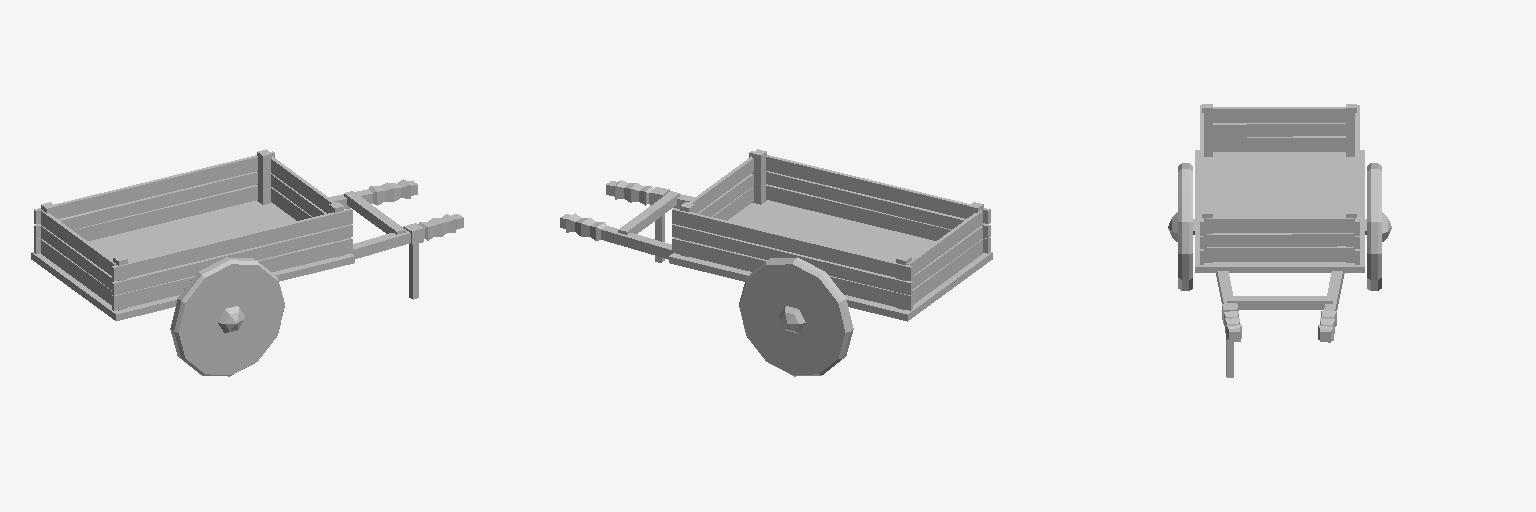
File: cart_001.obj
3 renders of one model, left to right at view 1: azimuth 30°, elevation 25°; view 2: azimuth 150°, elevation 25°; view 3: azimuth 270°, elevation 25°, orthographic.
Parts seen in each view (by area): view 1: cart_001; view 2: cart_001; view 3: cart_001.
Boxes of the visible parts, x1=… form: cart_001: x1=31, y1=149, x2=463, y2=376; cart_001: x1=560, y1=149, x2=992, y2=376; cart_001: x1=1168, y1=104, x2=1391, y2=377.
Bounding box in the file's own units: 3.35 × 1.16 × 1.78.